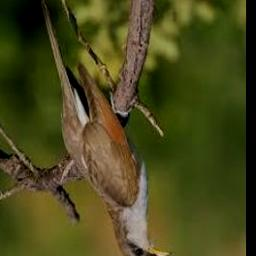Cuckoo: (40, 1, 172, 256)
